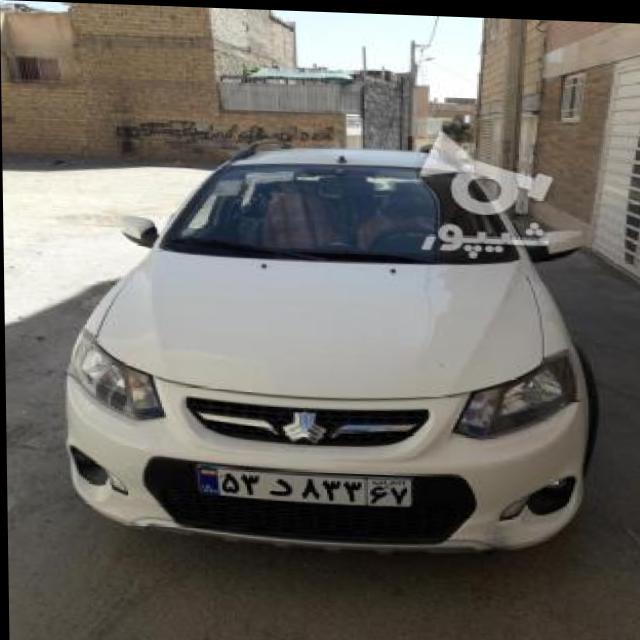licence: (202, 464, 406, 504)
